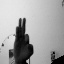f: (11, 17, 35, 59)
